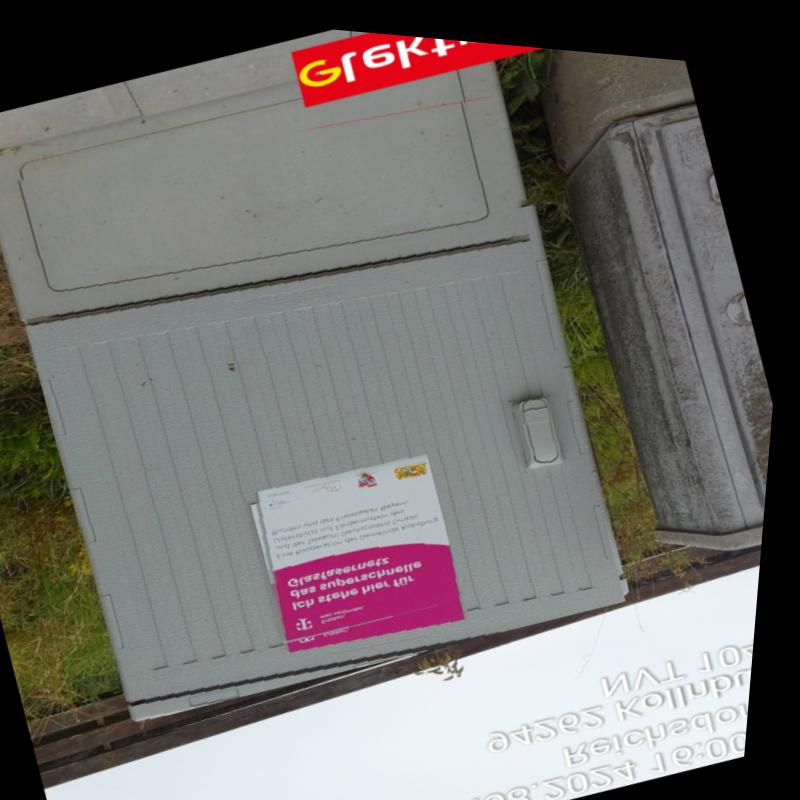NT-Gehause: (0, 18, 669, 756)
Steaker: (244, 429, 482, 650)
